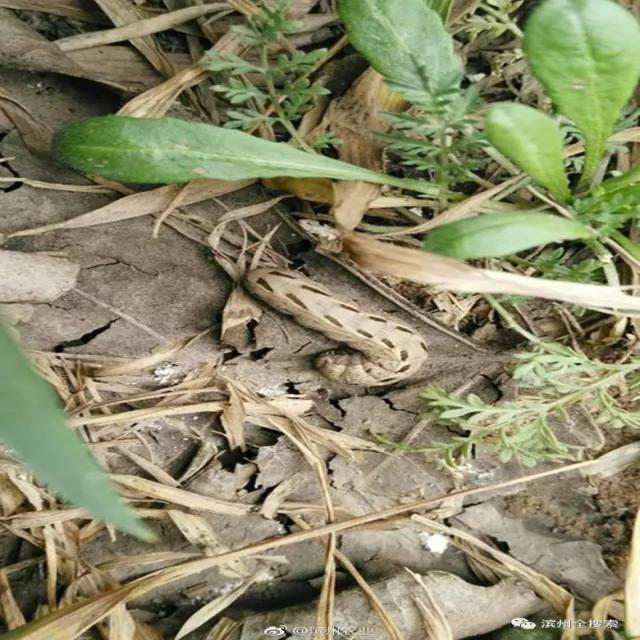armyworm: (254, 255, 428, 405)
